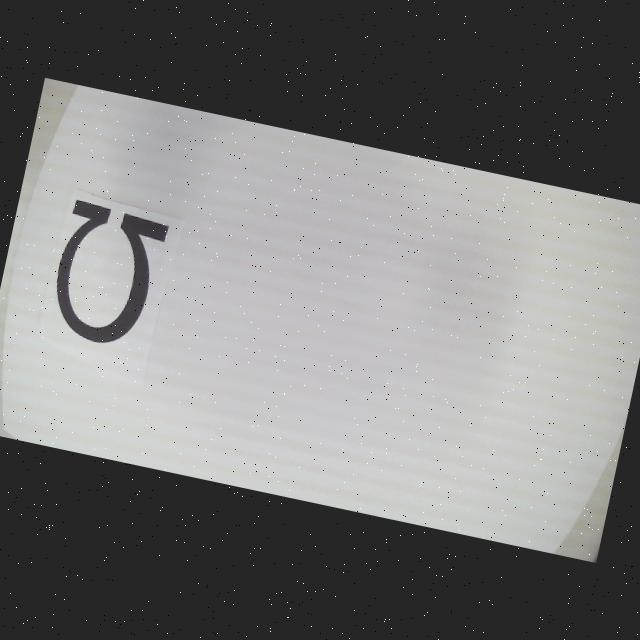OMEGA: (44, 198, 170, 352)
